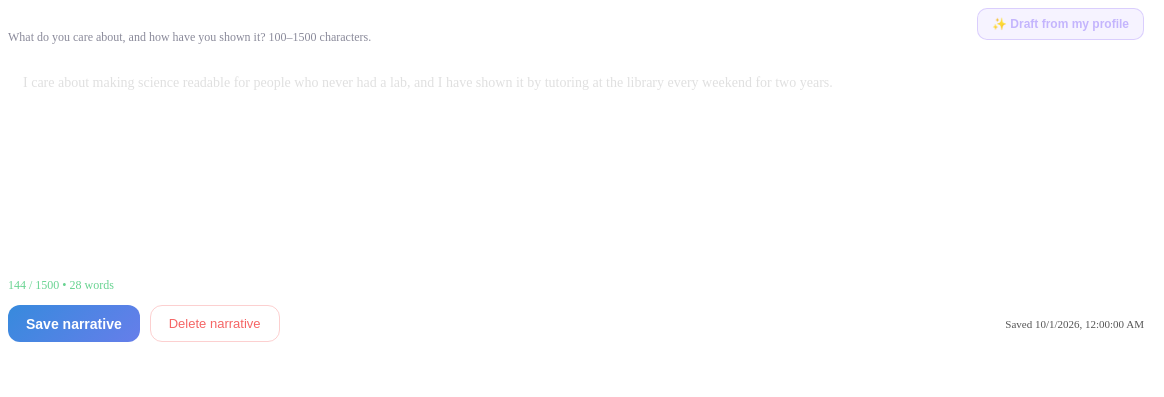
Test: NarrativeEditor › deletes the active story through the session's narrative route
The image size is (1164, 397).
What coordinates should you click on to do the following:
click the button "Delete narrative"
I would click on:
 (215, 324)
Its box is [150,305,280,342].
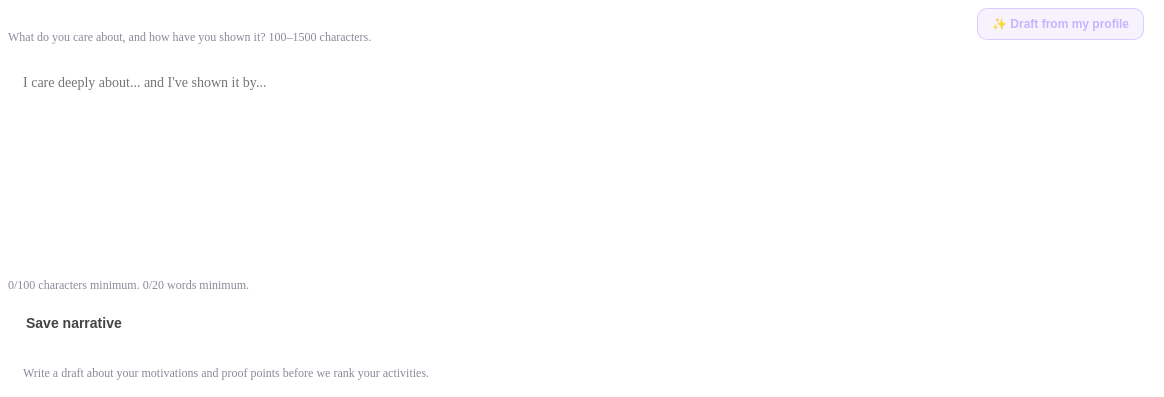
Check: the button "Delete narrative" is gone
